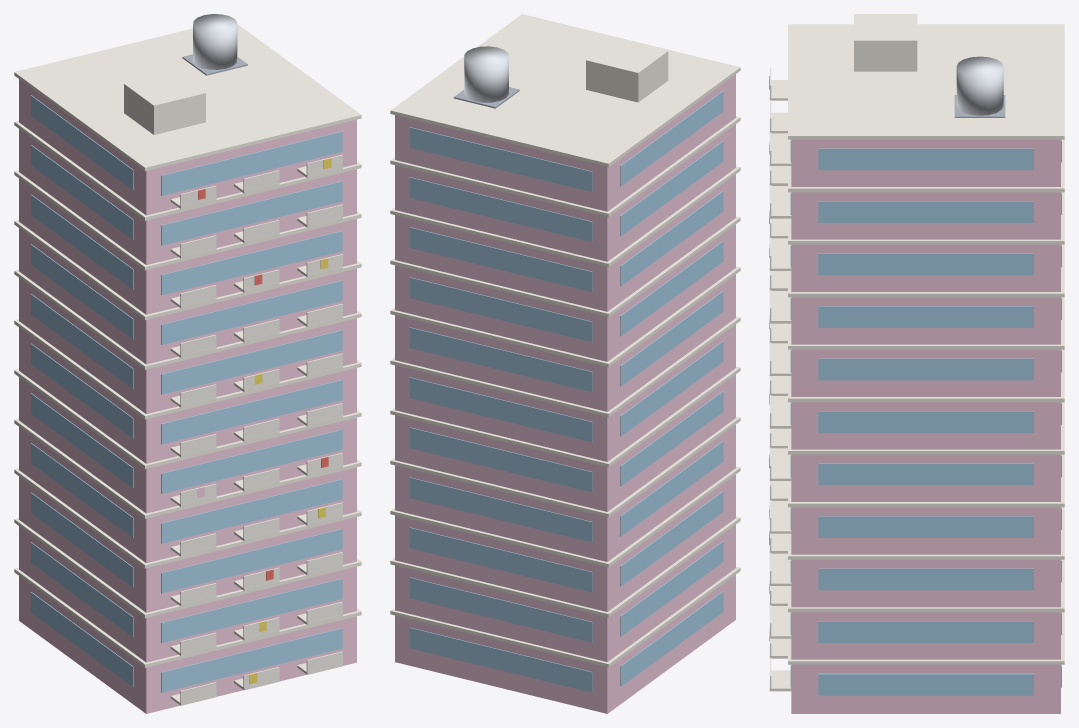
File: Bld_CondoD.fbx
The picture shows the model from 3 angles, left to right: view 1: azimuth 30°, elevation 25°; view 2: azimuth 150°, elevation 25°; view 3: azimuth 270°, elevation 25°; orthographic projection. The views are drawn at different scales.
Parts seen in each view (by area): view 1: Bld_CondoD; view 2: Bld_CondoD; view 3: Bld_CondoD.
Part boxes in pixels (x1,y1,x2,y2): Bld_CondoD: (14, 14, 361, 713); Bld_CondoD: (390, 14, 740, 713); Bld_CondoD: (769, 14, 1064, 713).
Size of the model in its own units: 14.61 by 37.8 by 16.3.
